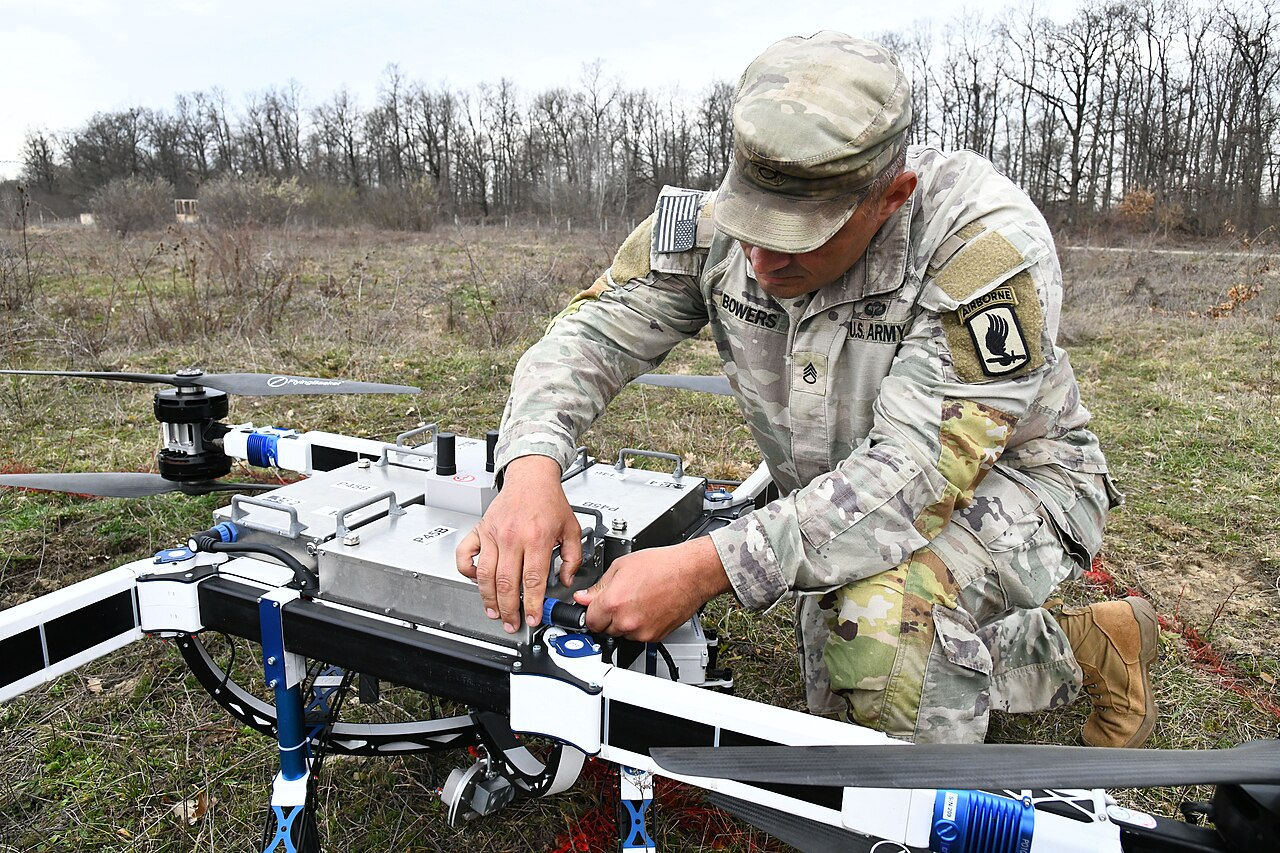drone: (0, 363, 1280, 853)
